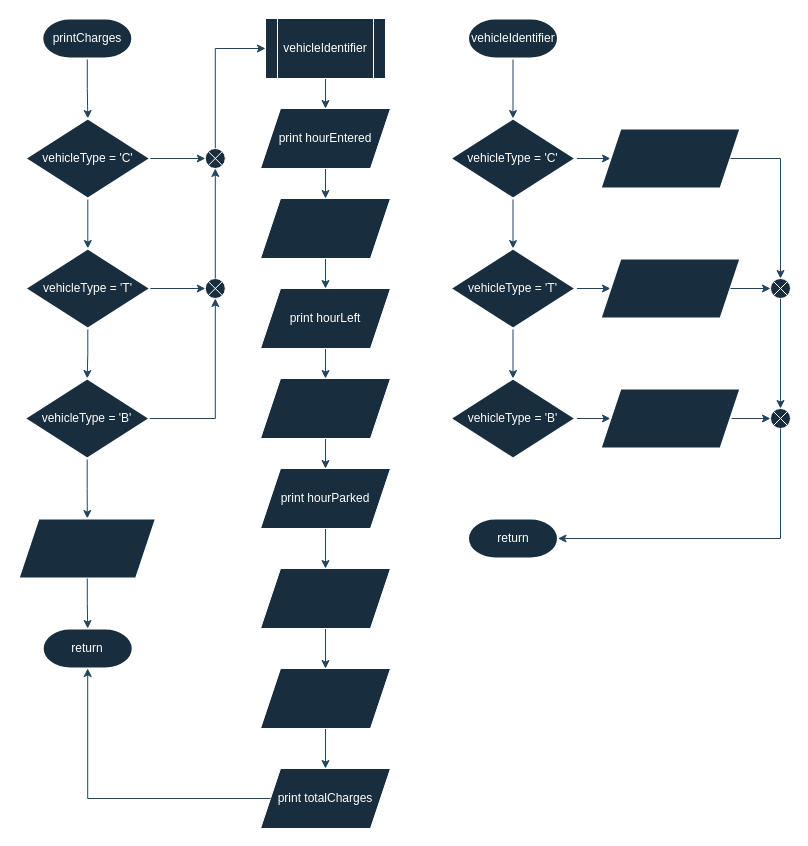
Some shapes in this 808 by 846 pixel diagram are drawn without their labels. Each missing label, with the centre of its shape:
Invalid vehicle type: [86,548]
print "Type of Vehicle: Bus": [670,418]
print "Type of Vehicle: Car": [670,158]
print "Type of Vehicle: Truck": [670,288]
print minuteEntered: [325,228]
print minuteLeft: [325,408]
print minuteParked: [325,598]
print roundedHours: [325,698]
